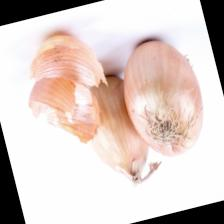onion: (110, 30, 214, 164), (72, 68, 157, 192)
